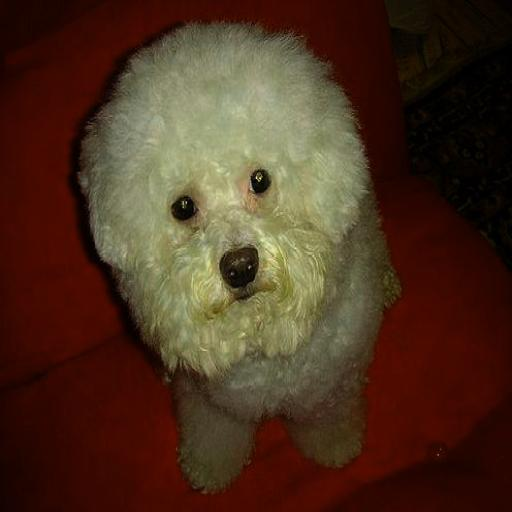dog_face: (87, 42, 344, 356)
